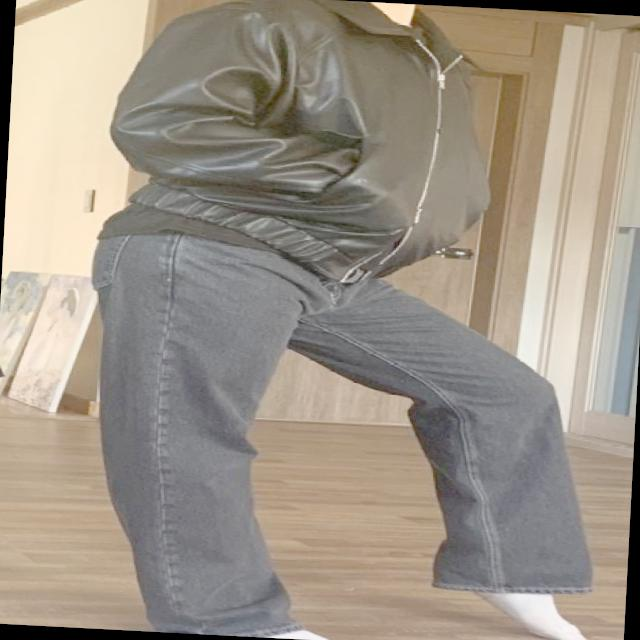denimpants: (62, 226, 613, 640)
jacket: (106, 0, 498, 290)
